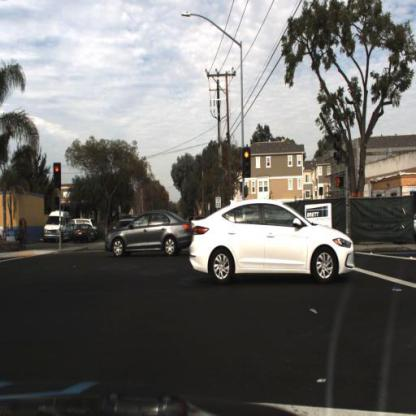car: (190, 201, 356, 286), (106, 207, 207, 261), (44, 209, 74, 245), (72, 220, 98, 244)
pedestrian: (17, 219, 29, 251)
trafficLight: (241, 145, 253, 178)
trafficLight-Red: (51, 164, 63, 194), (336, 176, 346, 192)
